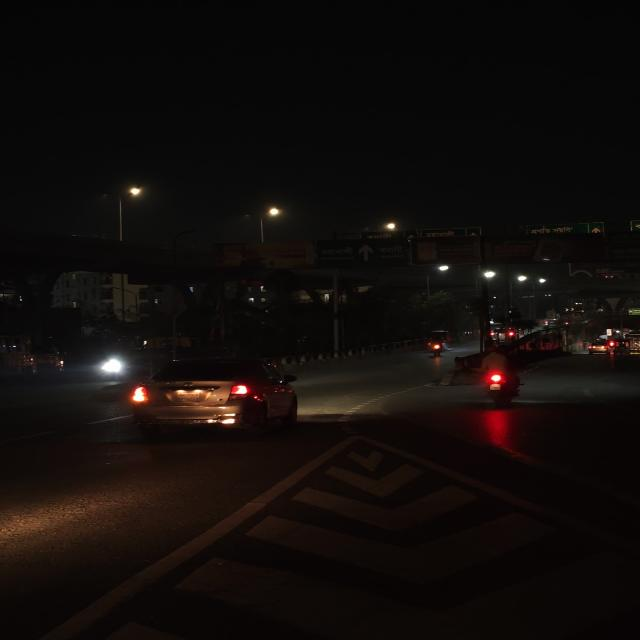car: (124, 356, 304, 440), (586, 337, 614, 358)
motorcycle: (474, 342, 529, 410), (426, 330, 448, 363)
